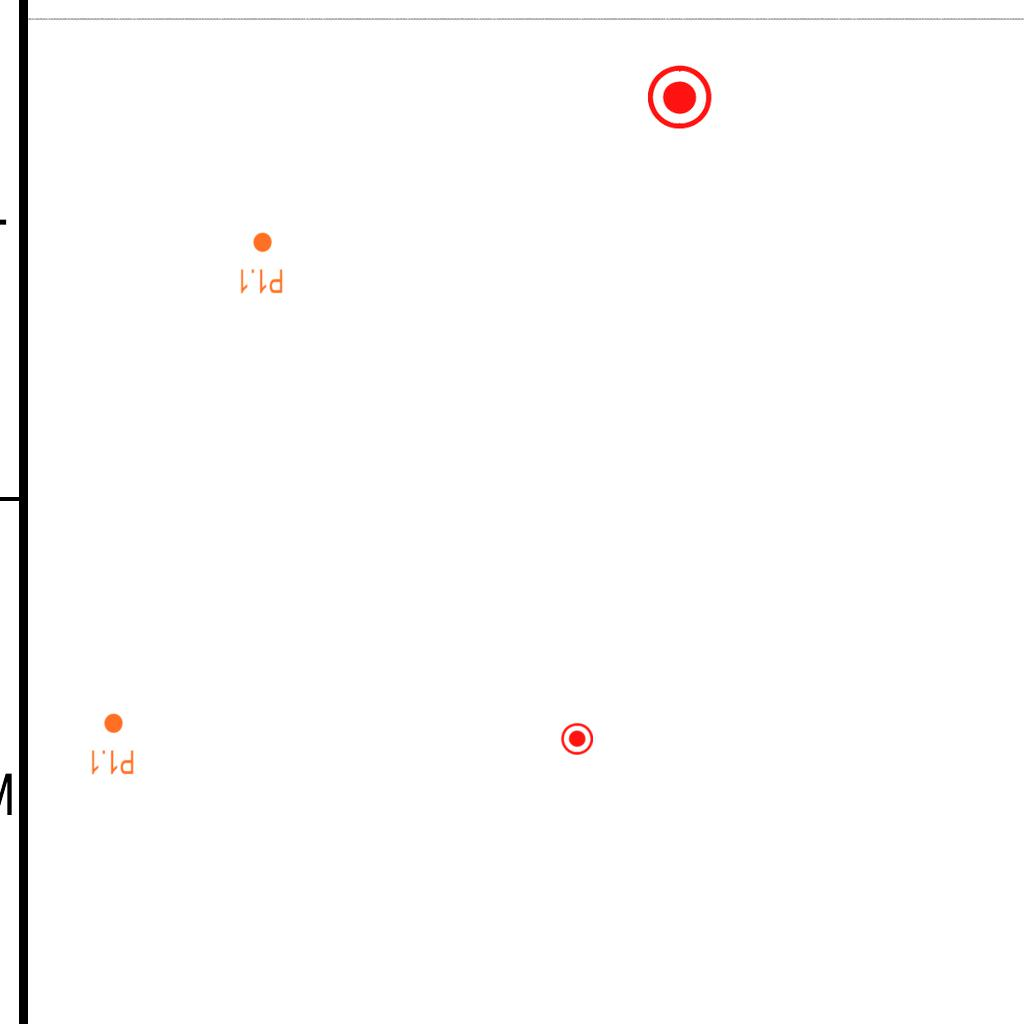Downlight_LED_Einbauleuchten_Flur_2: (89, 712, 135, 776), (238, 231, 284, 295)
Taster: (648, 65, 714, 131), (560, 722, 593, 755)
